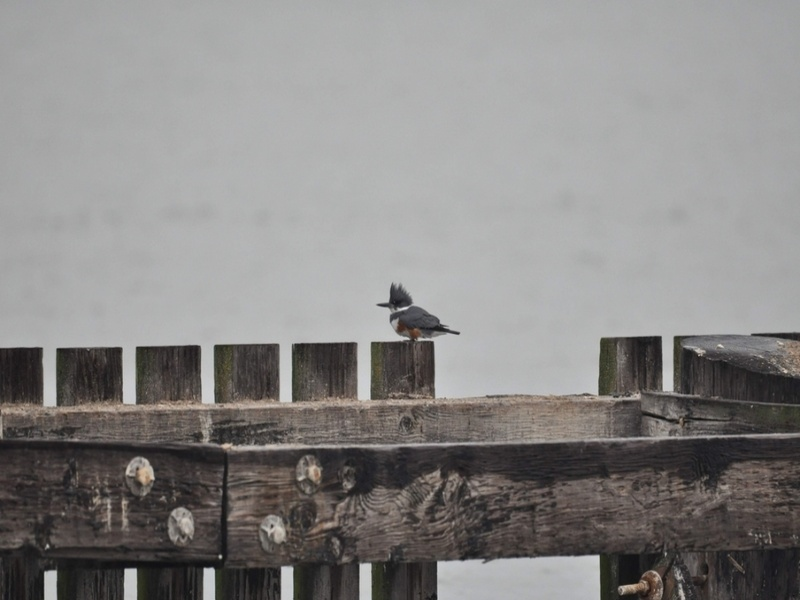kingfisher: (376, 283, 460, 342)
